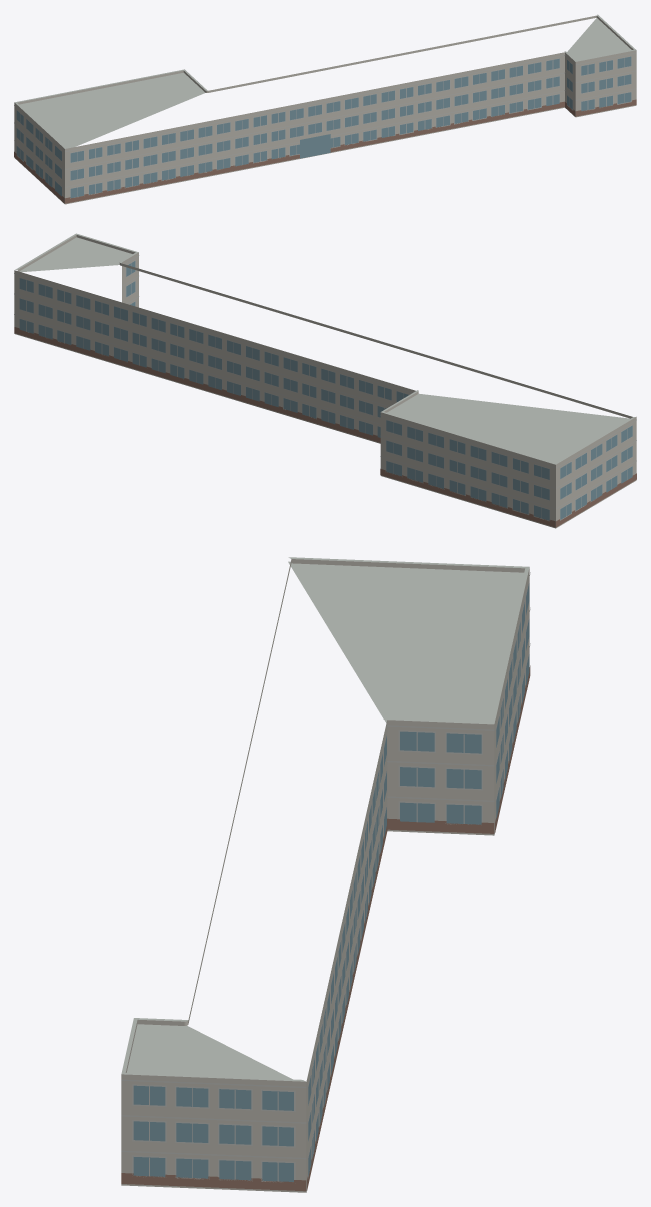
File: public-dc134fa9-12ed-4a14-b8b4-d68449bd416f.glb
3 views of the same model, one above another, from view 1: azimuth 30°, elevation 25°; view 2: azimuth 150°, elevation 25°; view 3: azimuth 270°, elevation 25° (orthographic). The views are drawn at different scales.
Parts seen in each view (by area): view 1: public-dc134fa9-12ed-4a14-b8b4-d68449bd416f; view 2: public-dc134fa9-12ed-4a14-b8b4-d68449bd416f; view 3: public-dc134fa9-12ed-4a14-b8b4-d68449bd416f.
Boxes of the visible parts, box(x1,y1,x2,y2) form: public-dc134fa9-12ed-4a14-b8b4-d68449bd416f: box(14, 14, 636, 204); public-dc134fa9-12ed-4a14-b8b4-d68449bd416f: box(14, 233, 636, 528); public-dc134fa9-12ed-4a14-b8b4-d68449bd416f: box(121, 557, 530, 1192).
Size of the model in its own units: 92.77 by 9.15 by 30.61.
